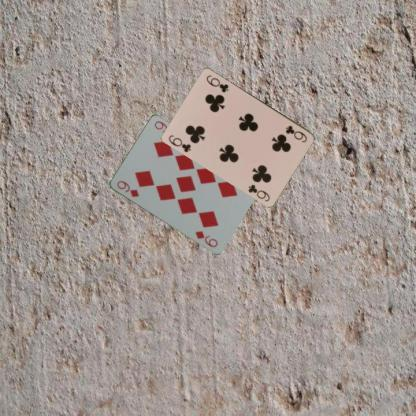6c: (283, 122, 309, 144), (166, 132, 192, 154)
9d: (114, 178, 140, 198)
